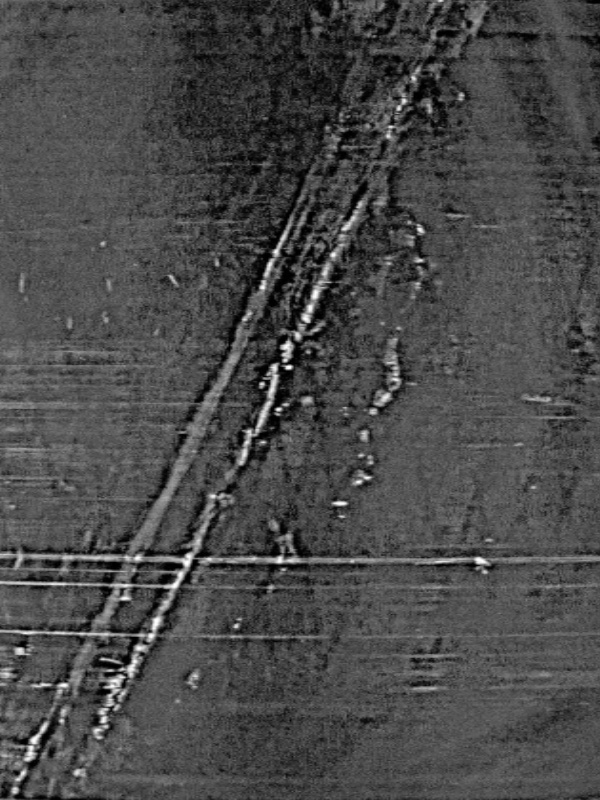splice_vulcanized: (1, 1, 470, 800)
